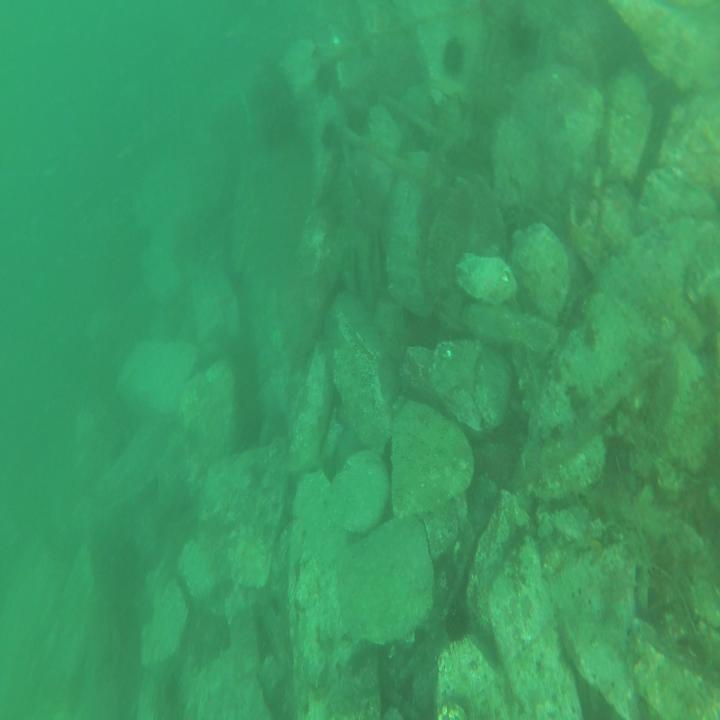echinus: (441, 35, 466, 75), (322, 120, 338, 149)
